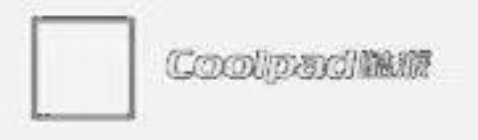CheckBox: (1, 1, 477, 139)
